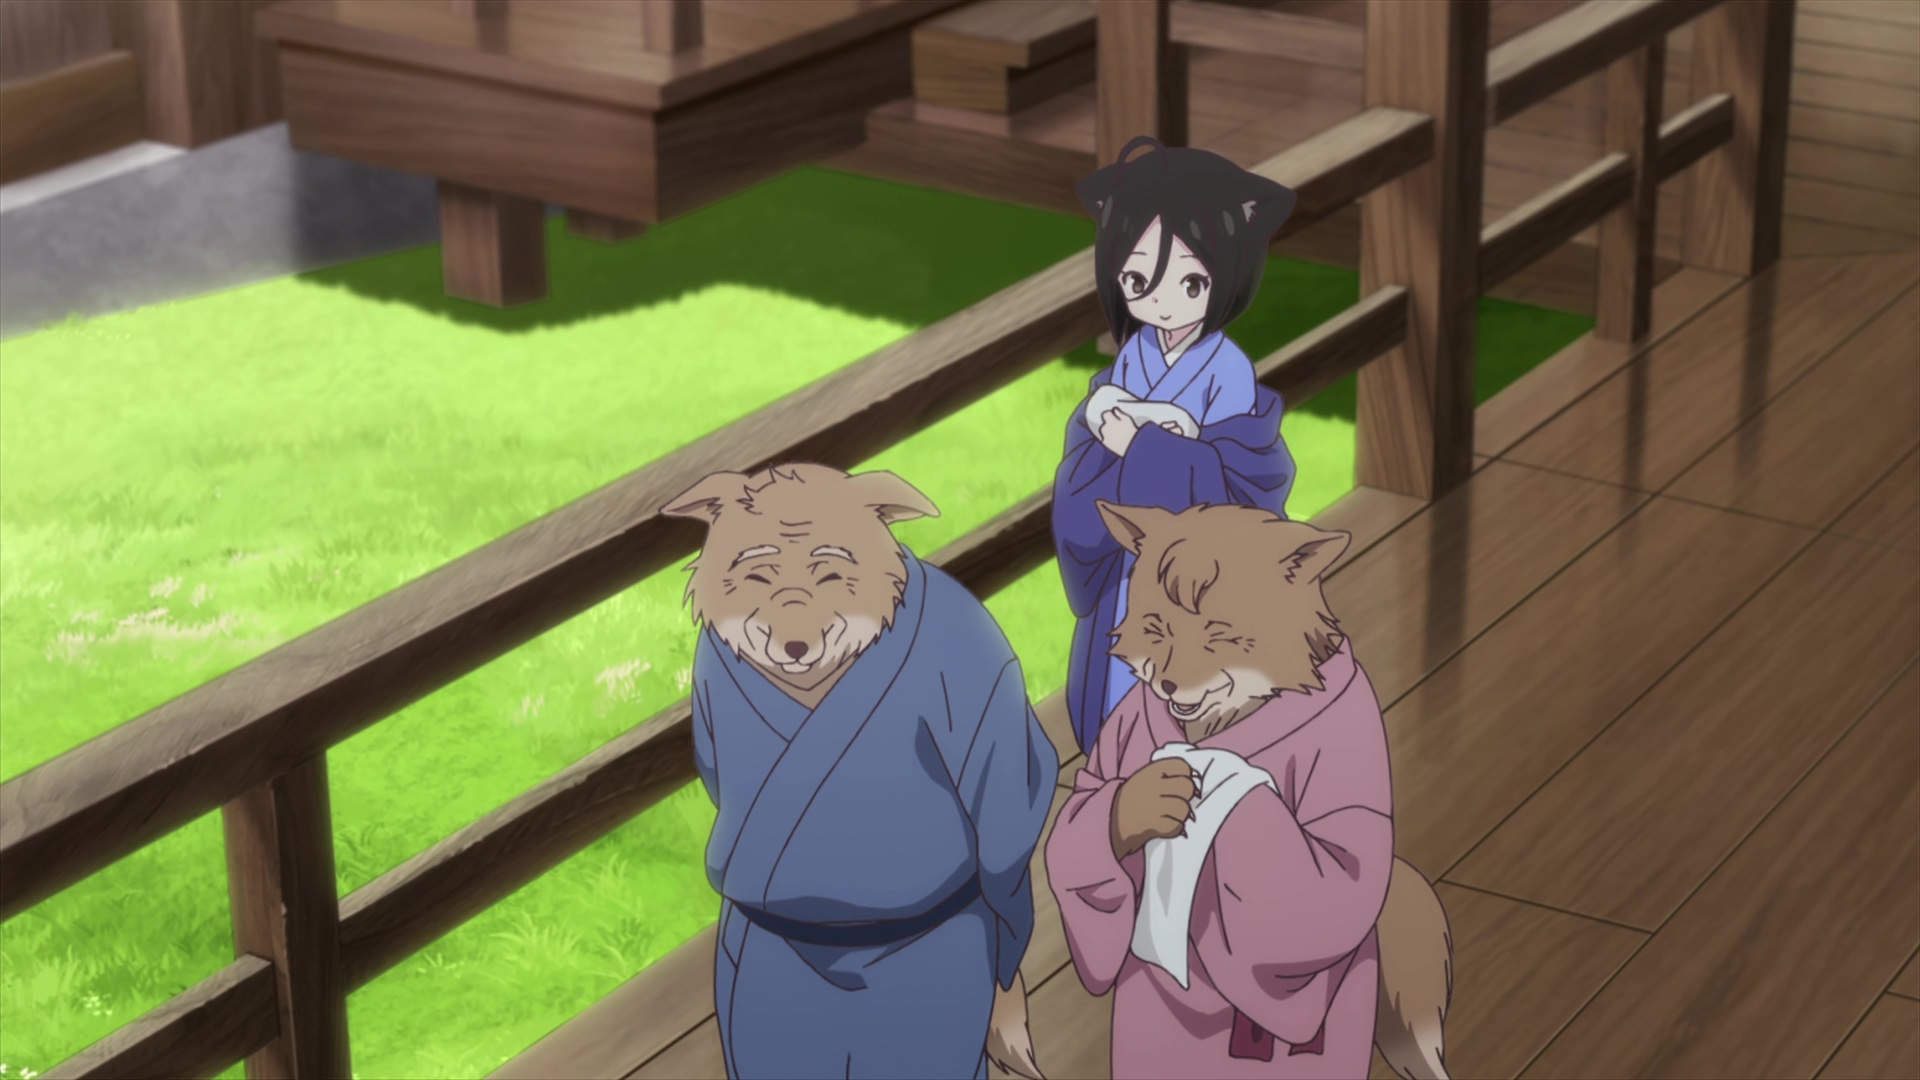其他: (662, 465, 1062, 1080), (1043, 502, 1452, 1080), (1052, 138, 1300, 757)
